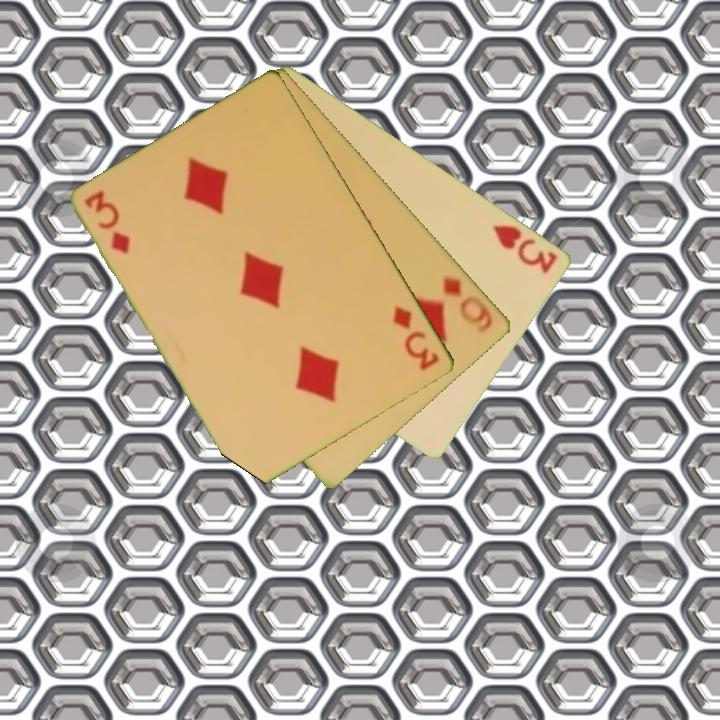3d: (389, 302, 443, 374), (81, 186, 134, 258)
3h: (490, 221, 561, 277)
6d: (440, 272, 497, 336)
